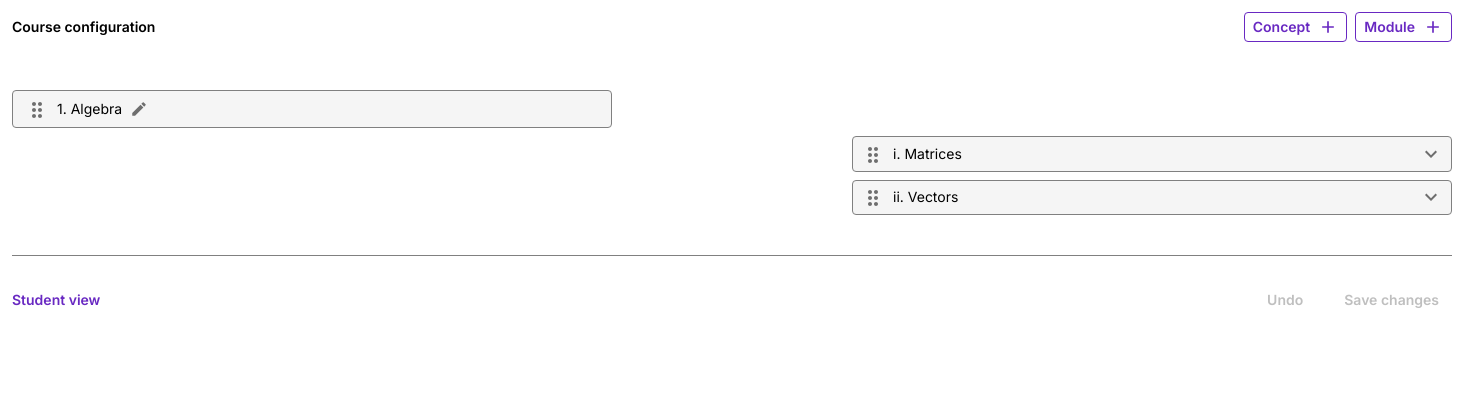
Test: ConfigurationTab › shows a duplicate-concept error inline under the field on a 400 (add row stays open)
Click the button with aria-label "add concept" at (1296, 27), box [1244,12,1347,42]
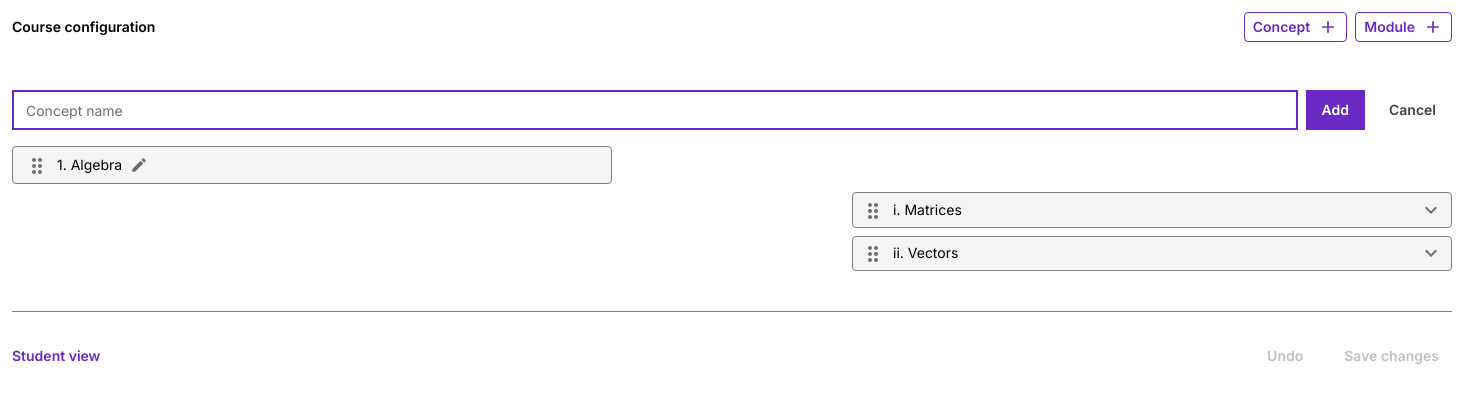
Type "Algebra" into the field named "New concept name" at (655, 110), box [12,90,1298,130]
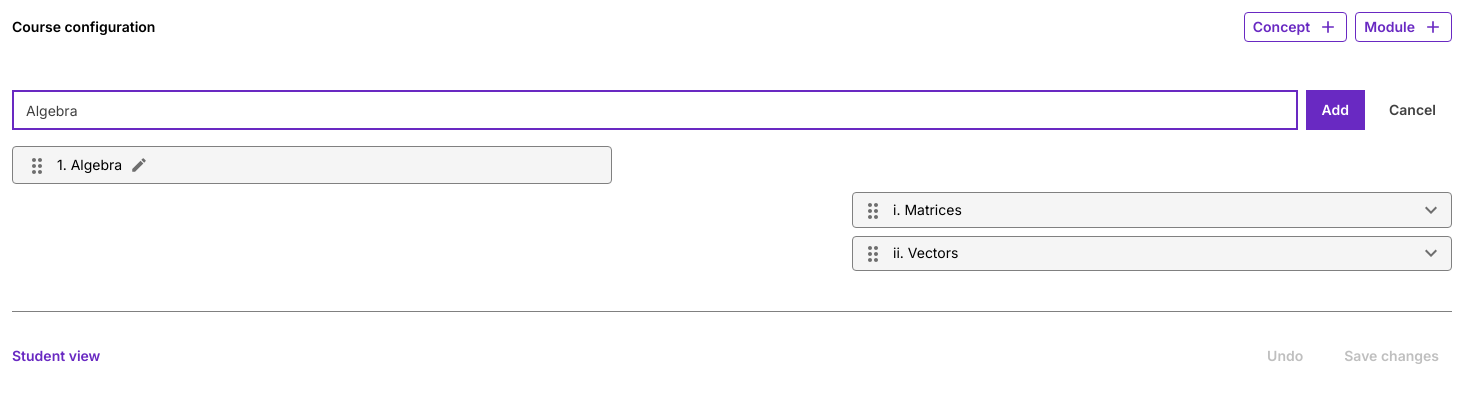
Click the button "Add" at (1335, 110), box [1306,90,1365,130]
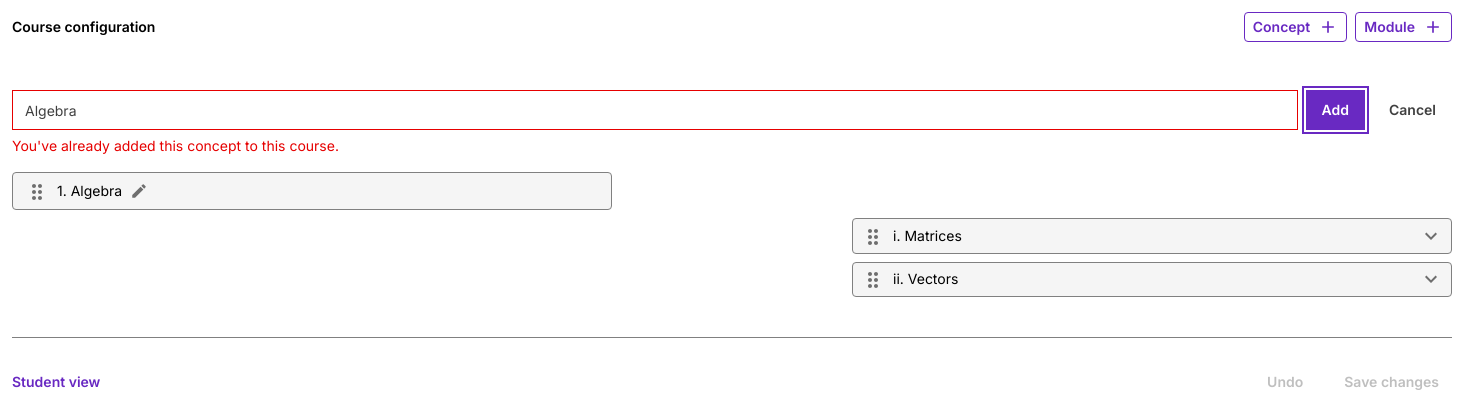
Check: the field named "New concept name" is marked as invalid
Check: the field named "New concept name" has attribute aria-describedby="new-concept-error"
// Editing the field clears the error.
Type "2" into the field named "New concept name" at (655, 110), box [12,90,1298,130]
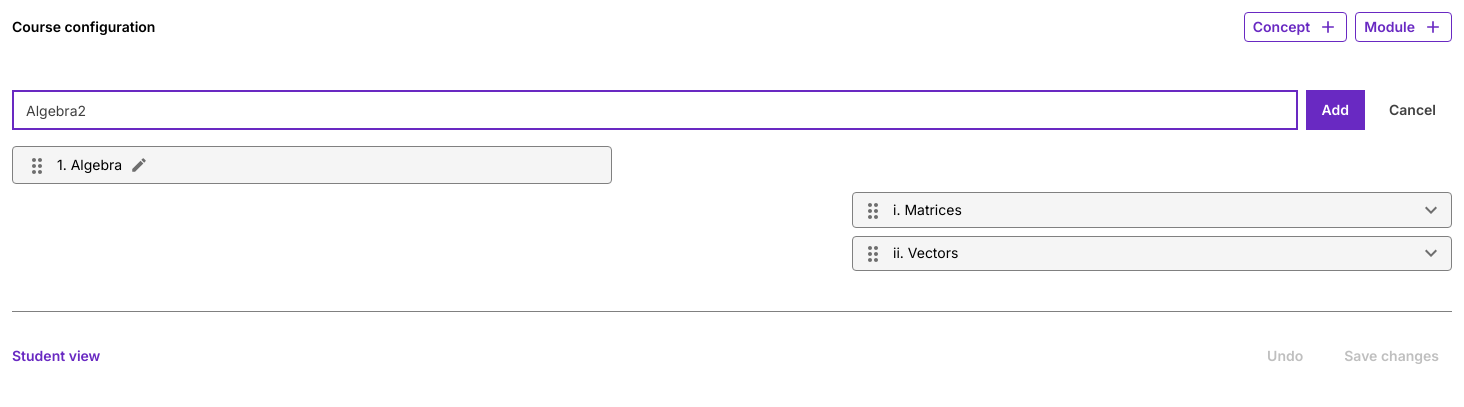
Check: the text "You've already added this concept to this course." is gone
